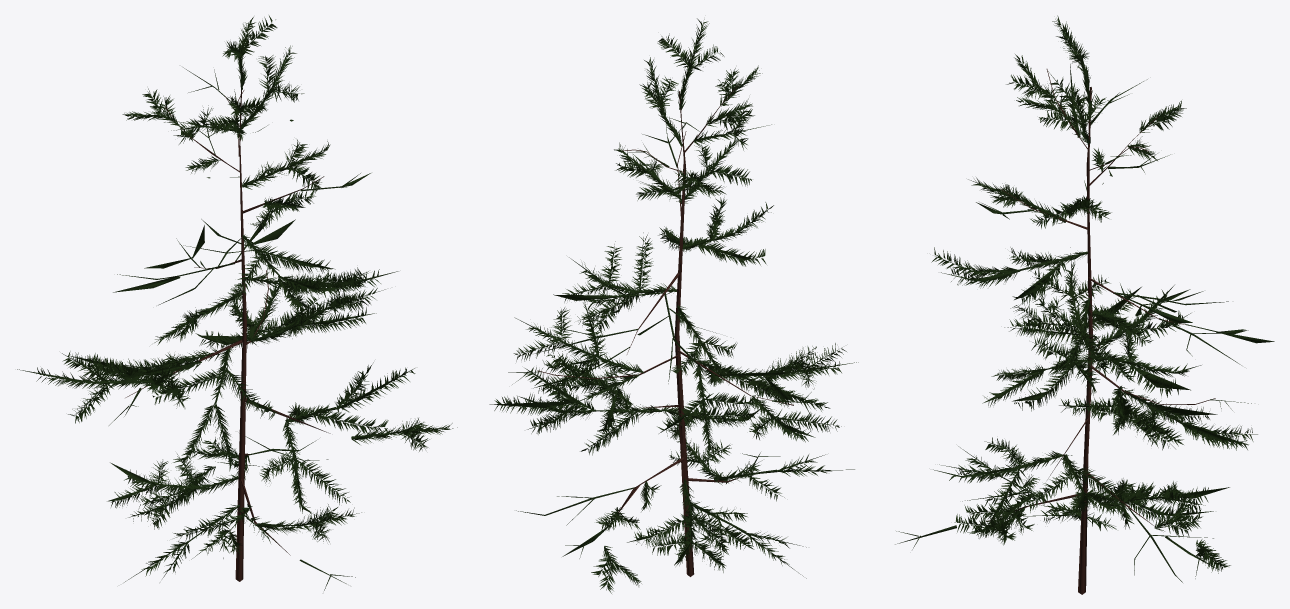
File: sapling_a_lod0.obj
The picture shows the model from 3 angles, left to right: view 1: azimuth 30°, elevation 25°; view 2: azimuth 150°, elevation 25°; view 3: azimuth 270°, elevation 25°; orthographic projection. The views are drawn at different scales.
Visible parts, largest first — view 1: sapling_a_lod0; view 2: sapling_a_lod0; view 3: sapling_a_lod0.
Boxes of the visible parts, x1,y1,x2,y2 form: sapling_a_lod0: (17,15,457,590); sapling_a_lod0: (489,18,858,593); sapling_a_lod0: (895,15,1274,594).
Bounding box in the file's own units: 32.36 × 49.9 × 29.98.
